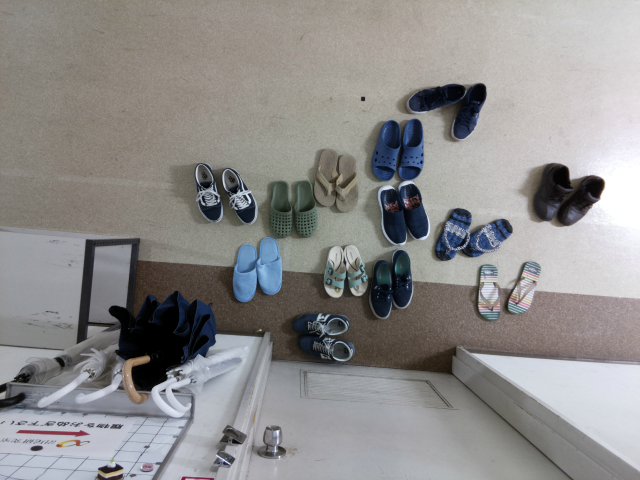Copy of Copy of Copy of Copy of Copy of Copy of Copy of Copy of Copy of Copy of: (527, 154, 576, 223), (553, 169, 607, 230), (431, 198, 473, 270), (403, 77, 468, 121), (458, 216, 516, 263), (448, 78, 491, 141), (281, 304, 354, 340), (292, 330, 365, 366), (506, 256, 544, 322), (395, 115, 430, 182), (472, 260, 507, 327), (399, 178, 433, 246), (363, 257, 396, 324), (375, 183, 409, 248)
Copy of Copy of Copy of Copy of Copy of Copy of Copy of Copy of Copy of shoe: (367, 118, 404, 182), (386, 248, 416, 312)
Copy of Copy of Copy of Copy of Copy of Copy of Copy of Copy of shoe: (340, 239, 372, 303)
Copy of Copy of Copy of Copy of Copy of Copy of Copy of shoe: (317, 240, 348, 304)
Copy of Copy of Copy of Copy of Copy of Copy of shoe: (288, 178, 319, 242)
Copy of Copy of Copy of Copy of Copy of shoe: (263, 177, 294, 241)
Copy of Copy of Copy of Copy of Copy of umbrella: (73, 311, 124, 412)
Copy of Copy of Copy of Copy of shoe: (254, 235, 286, 299)
Copy of Copy of Copy of Copy of umbrella: (35, 315, 136, 410)
Copy of Copy of Copy of shoe: (228, 242, 259, 306)
Copy of Copy of Copy of umbrella: (1, 315, 130, 415)
Copy of Copy of shoe: (330, 152, 361, 216)
Copy of Copy of umbrella: (113, 290, 220, 412)
Copy of shoe: (310, 147, 341, 211)
Copy of umbrella: (164, 349, 255, 423)
shoe: (219, 165, 260, 230), (188, 160, 225, 226)
umbrella: (148, 336, 252, 421)
